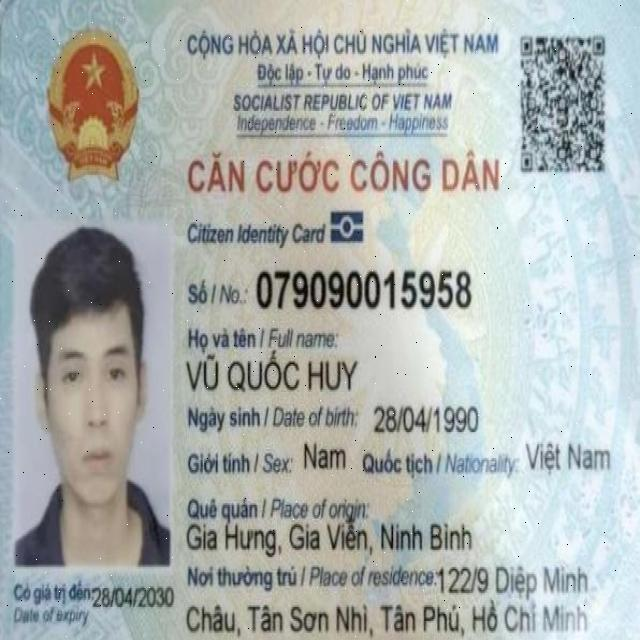current_place: (185, 598, 596, 640), (437, 562, 589, 599)
dob: (371, 401, 481, 435)
expire_date: (92, 582, 175, 610)
gender: (302, 438, 348, 475)
id: (254, 263, 474, 313)
name: (185, 350, 361, 393)
nationality: (524, 436, 614, 477)
origin_place: (187, 519, 475, 556)
